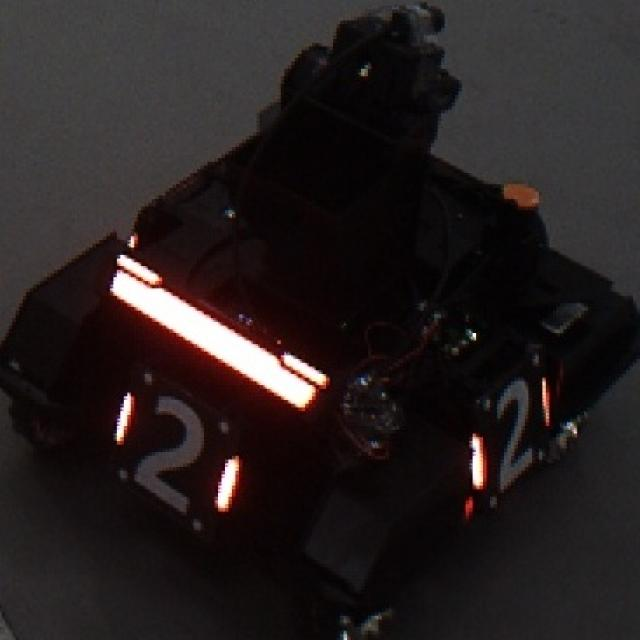R2: (112, 391, 244, 517), (467, 376, 553, 489)
